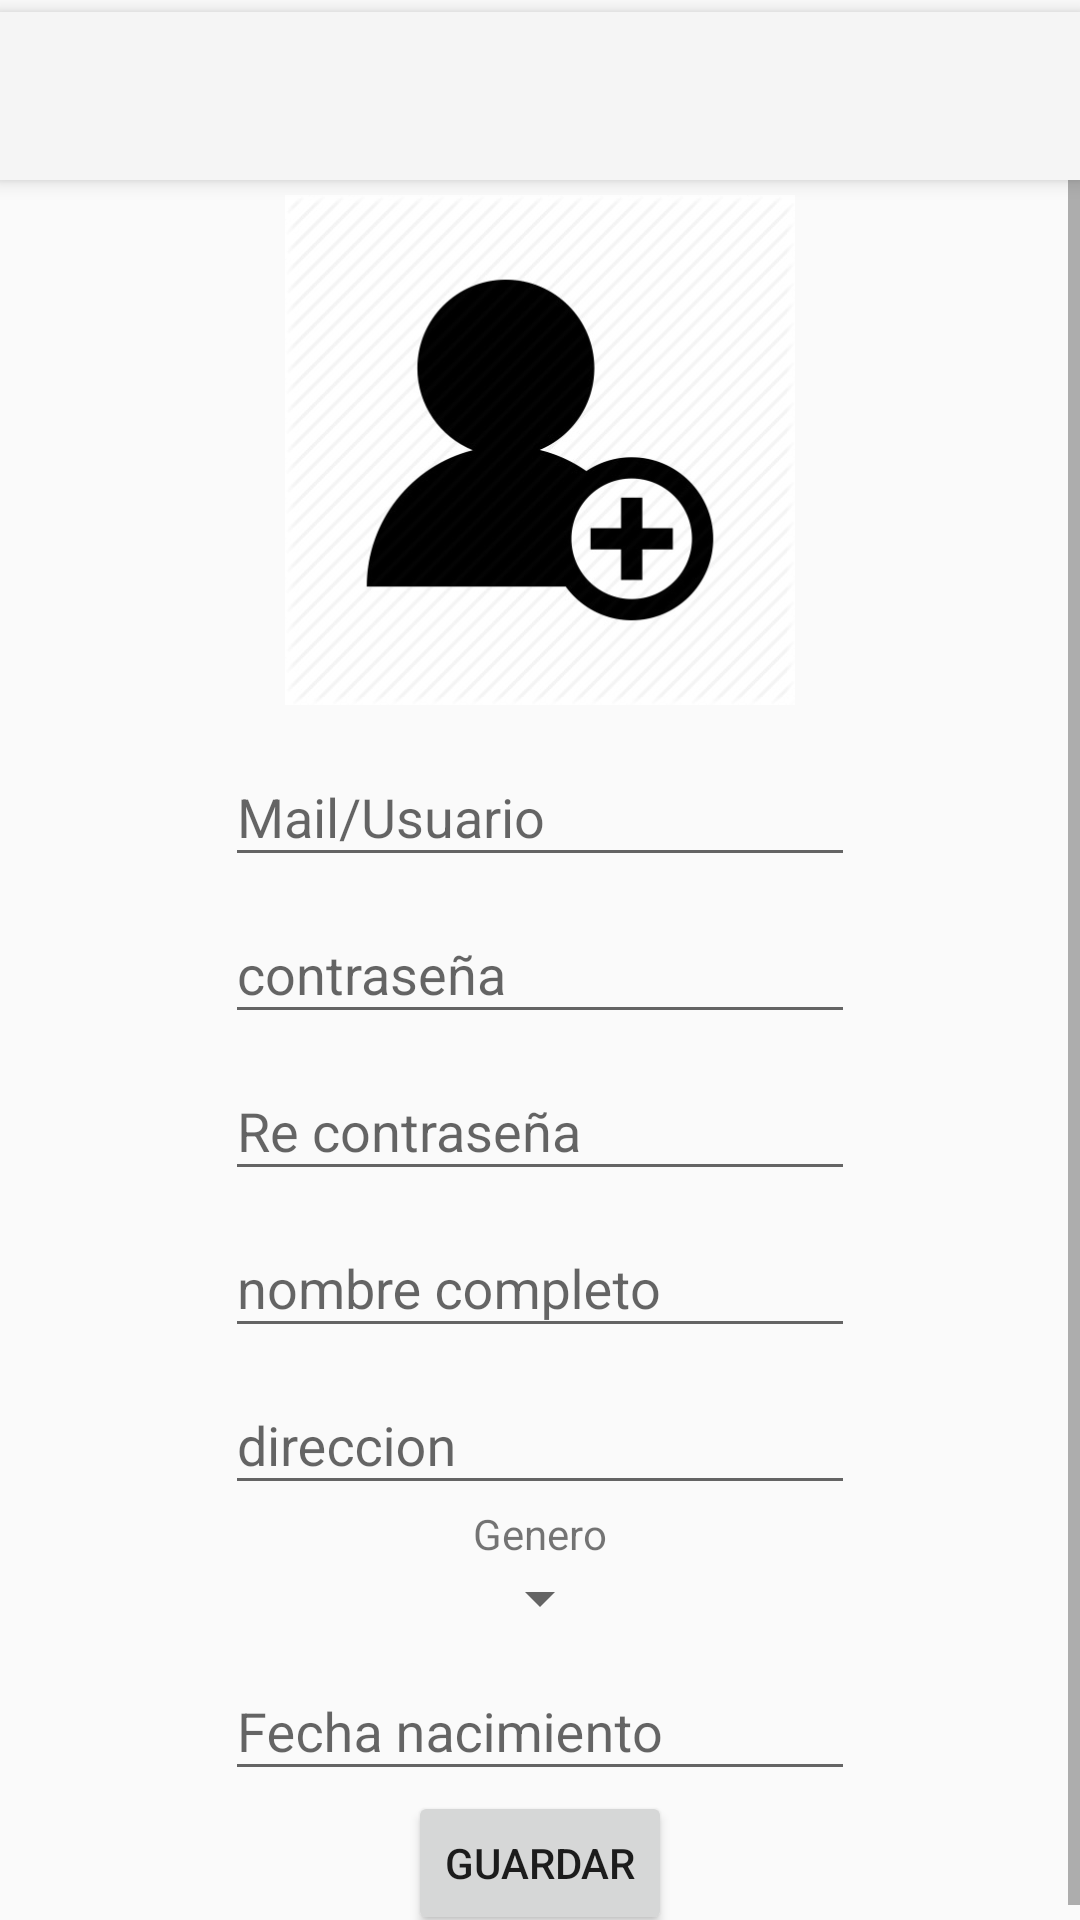

Where icons sit on this 1080 × 1920 app screen, as bbox(x1, y1, x2, y2):
person plus: bbox(366, 279, 714, 621)
